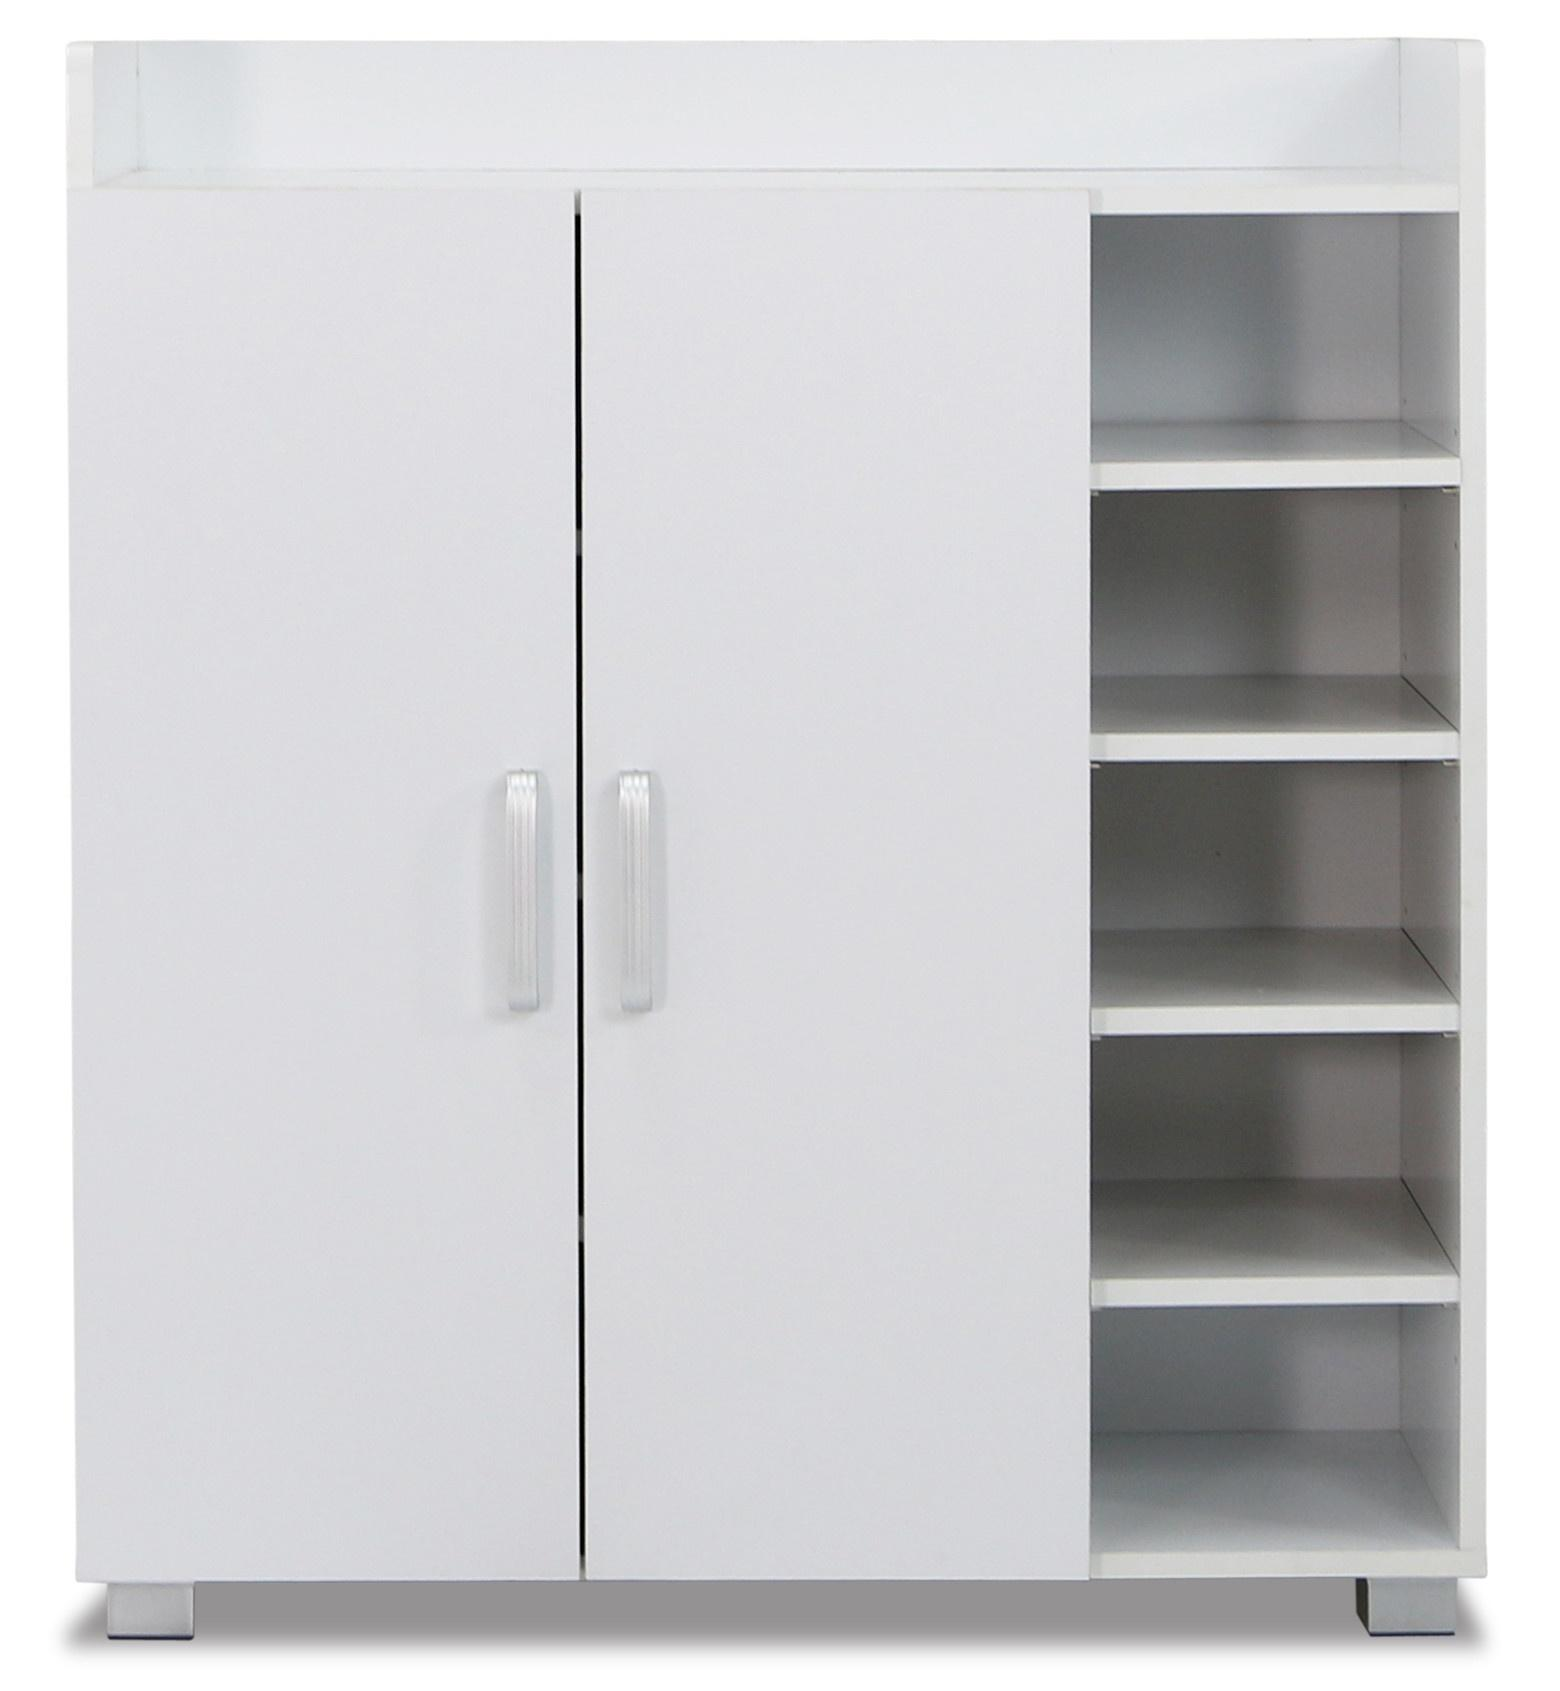cabinet_door: (72, 199, 580, 1567), (577, 194, 1075, 1585)
handle: (610, 756, 660, 1033), (495, 764, 545, 1033)
